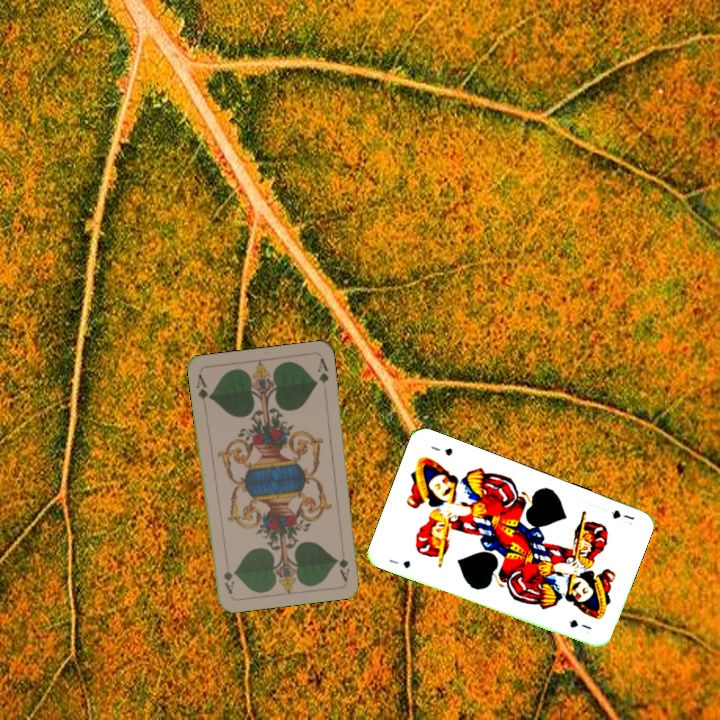GA: (335, 542, 352, 583), (192, 370, 213, 402)
GU: (607, 506, 637, 522), (385, 555, 413, 571)
